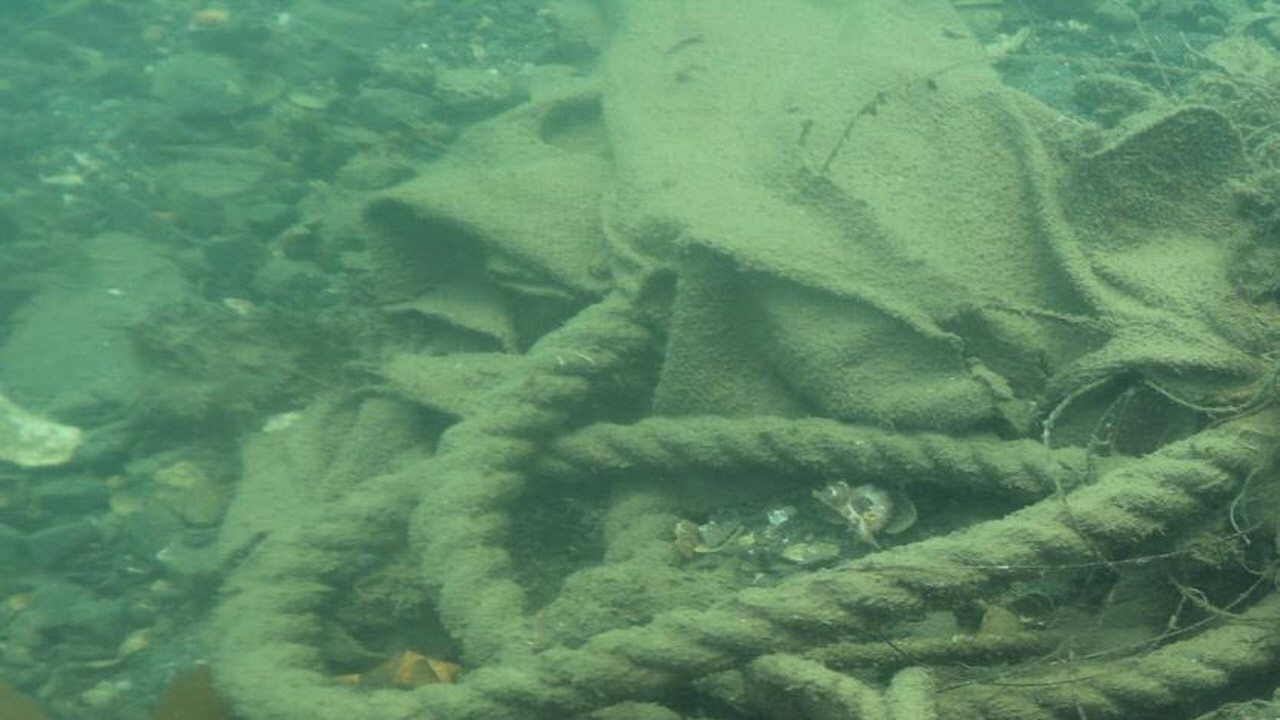bundle of ropes: (212, 297, 1280, 720)
